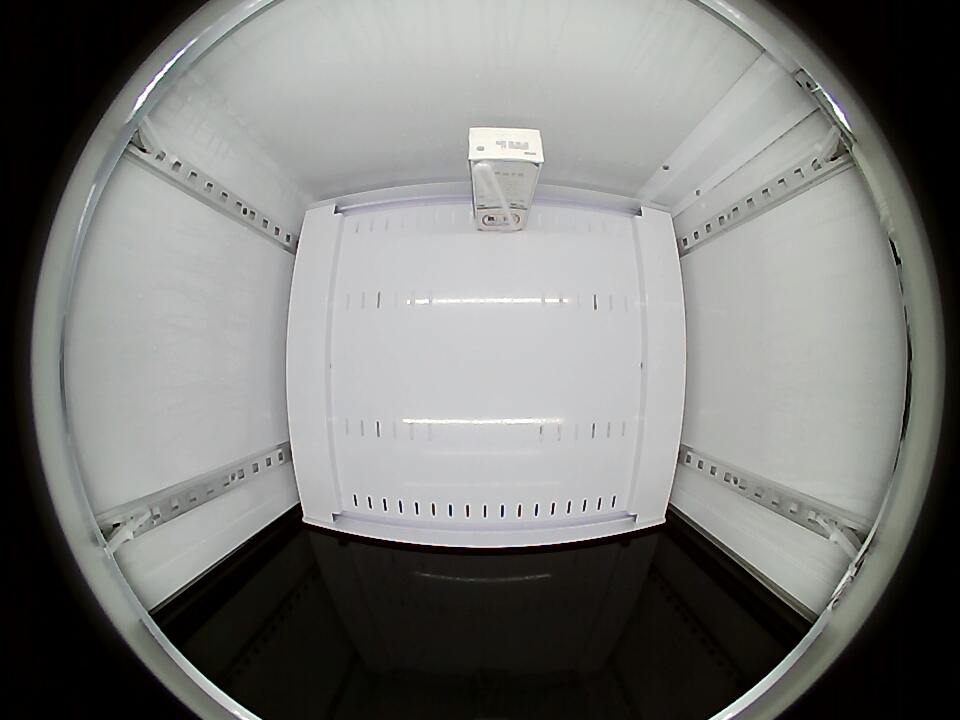jindian: (467, 126, 544, 181)
